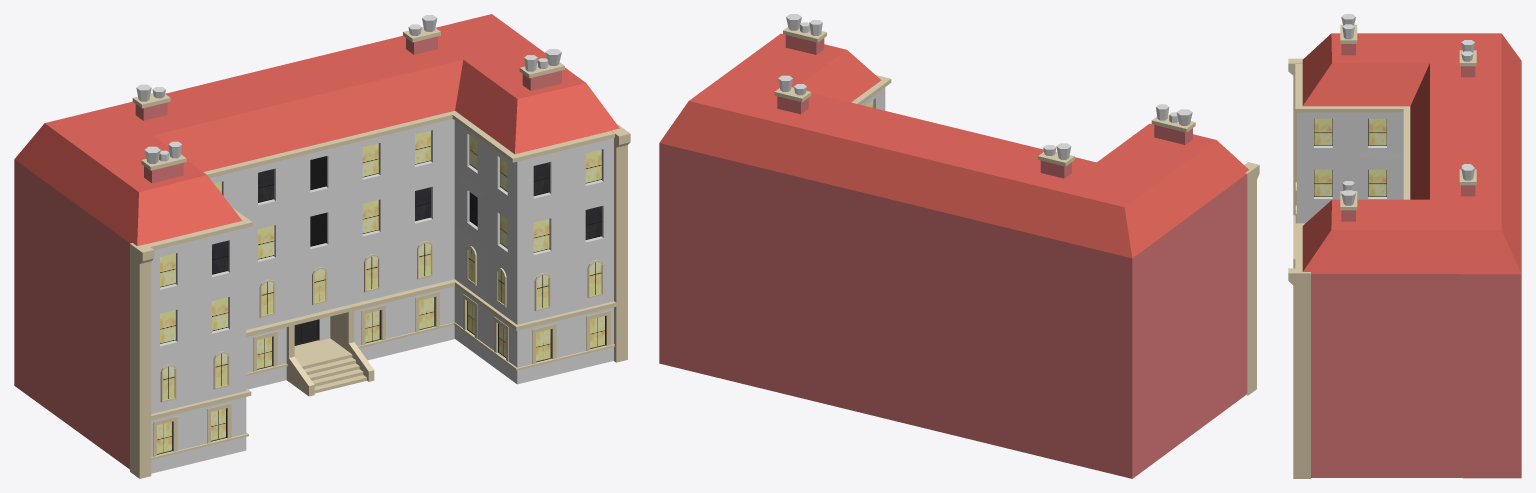
File: Bloc_Place_07.fbx
3 renders of one model, left to right at view 1: azimuth 30°, elevation 25°; view 2: azimuth 150°, elevation 25°; view 3: azimuth 270°, elevation 25°, orthographic. The views are drawn at different scales.
Parts seen in each view (by area): view 1: Bloc_Place_07; view 2: Bloc_Place_07; view 3: Bloc_Place_07.
Part boxes in pixels (left/top/right/bottom): Bloc_Place_07: left=14, top=14, right=630, bottom=478; Bloc_Place_07: left=659, top=14, right=1259, bottom=478; Bloc_Place_07: left=1288, top=14, right=1521, bottom=478.
Bounding box in the file's own units: 1244 × 1569 × 2708.
